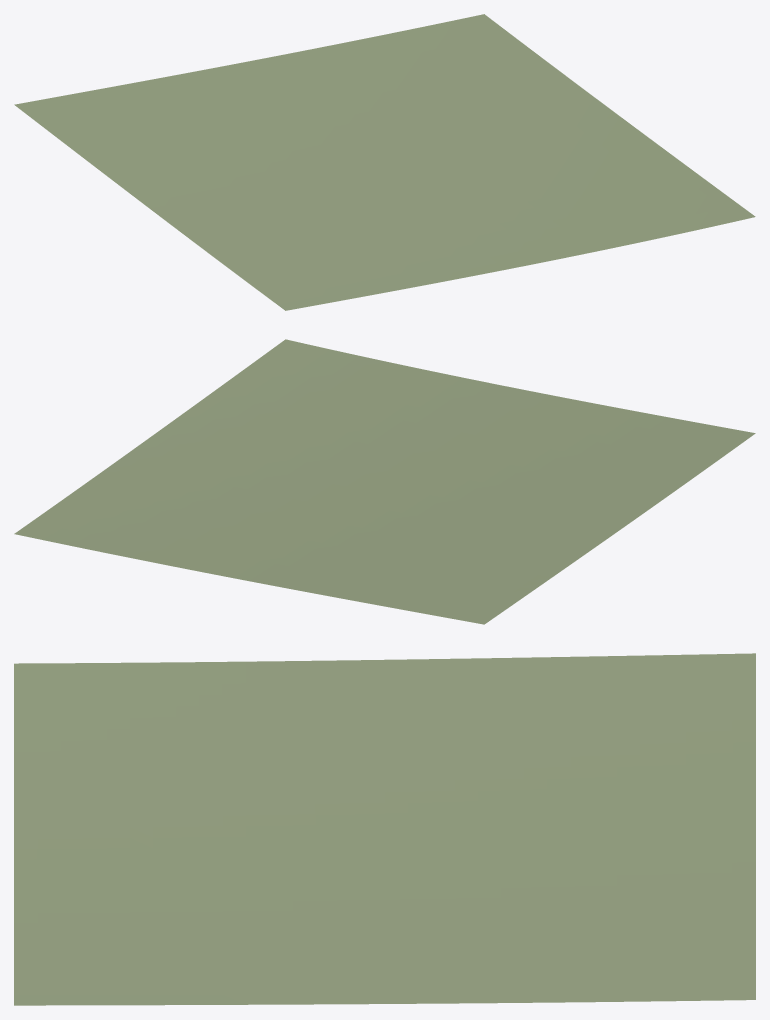
File: desert-2-21.glb
3 views of the same model, one above another, from view 1: azimuth 30°, elevation 25°; view 2: azimuth 150°, elevation 25°; view 3: azimuth 270°, elevation 25° (orthographic). The views are drawn at different scales.
Visible parts, largest first — view 1: desert-2-21; view 2: desert-2-21; view 3: desert-2-21.
Part boxes in pixels (x1,y1,x2,y2): desert-2-21: (14,14,755,310); desert-2-21: (14,339,755,624); desert-2-21: (14,653,755,1005).
Size of the model in its own units: 512 by 29.35 by 512.
